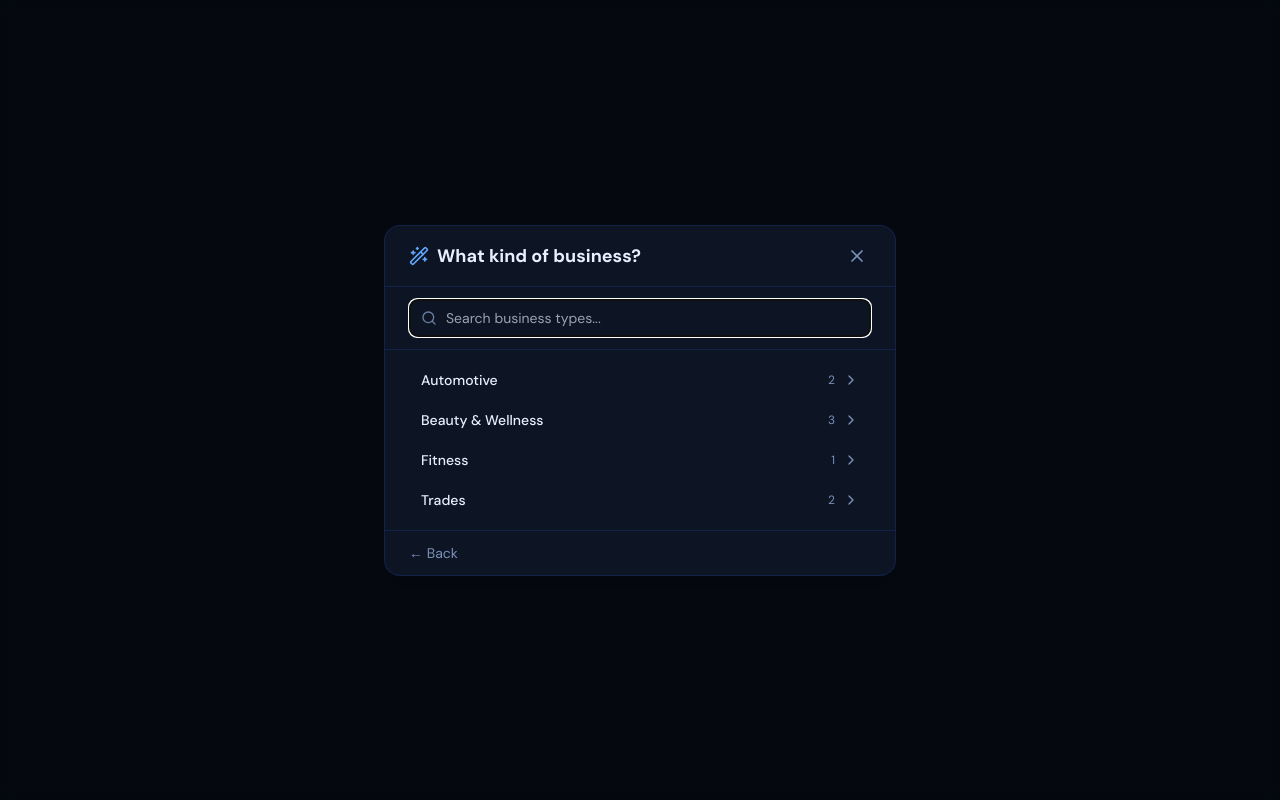
Test: BusinessTypePicker › Happy Paths › expands category on click to show templates
Click the text "Beauty & Wellness" at (482, 420), box [421,410,544,430]
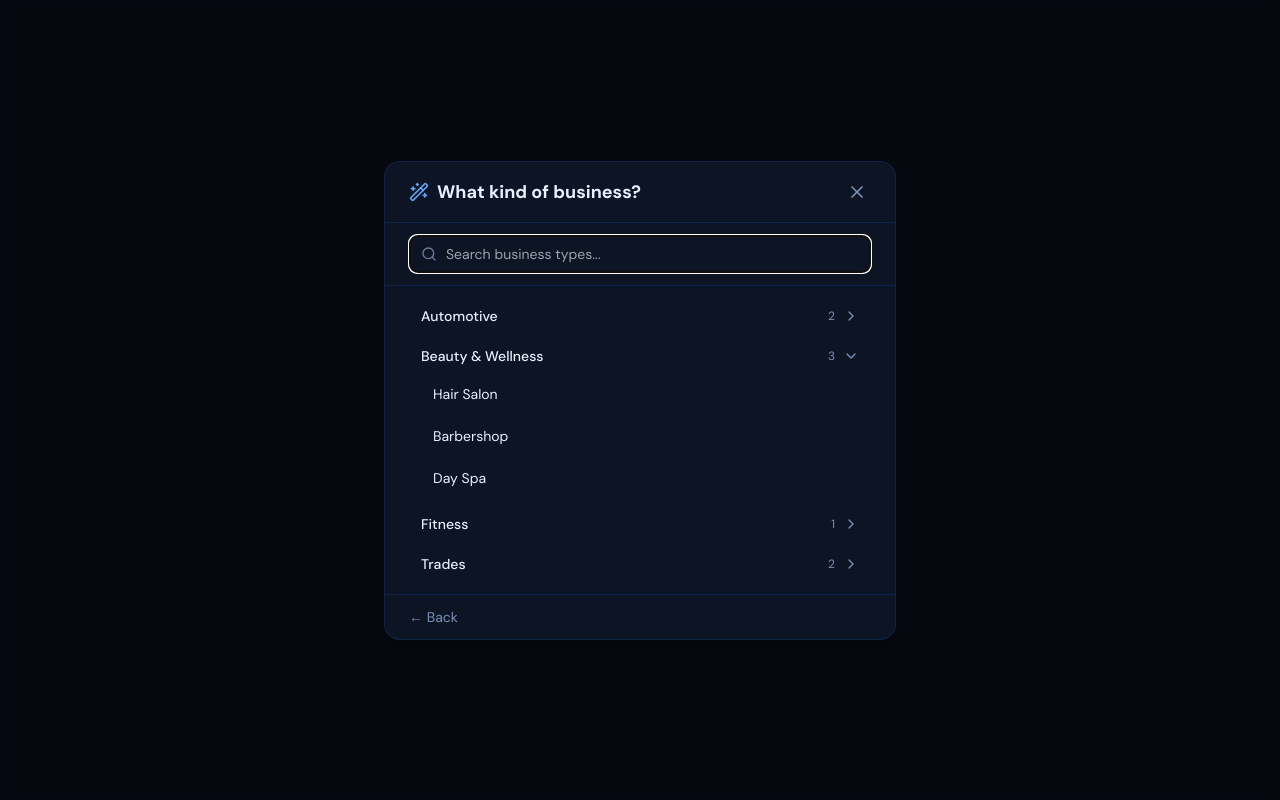
Check: the text "Hair Salon" is shown, box [433,384,498,402]
Check: the text "Barbershop" is shown, box [433,426,508,444]
Check: the text "Day Spa" is shown, box [433,468,486,486]
